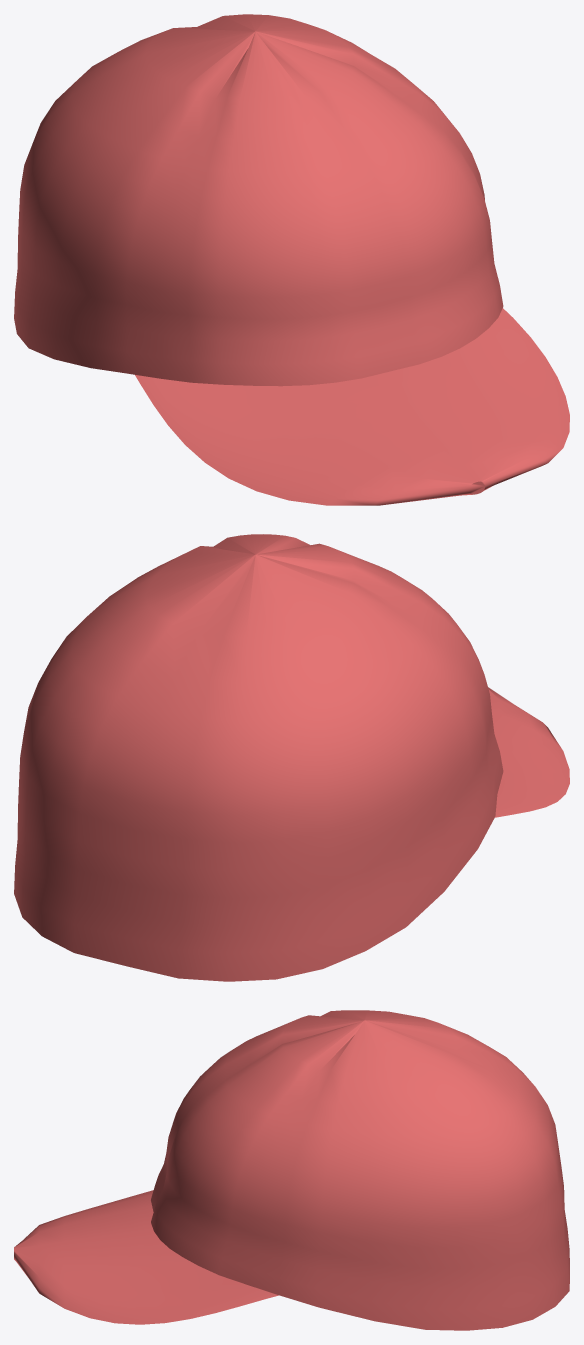
File: Char_Cap.fbx
3 renders of one model, top to bottom at view 1: azimuth 30°, elevation 25°; view 2: azimuth 150°, elevation 25°; view 3: azimuth 270°, elevation 25°, orthographic. The views are drawn at different scales.
Parts seen in each view (by area): view 1: Char_Cap; view 2: Char_Cap; view 3: Char_Cap.
Boxes of the visible parts, <box> form: Char_Cap: <box>14,14,569,505</box>; Char_Cap: <box>14,534,569,981</box>; Char_Cap: <box>14,1010,569,1330</box>.
Bounding box in the file's own units: 0.1862 × 0.1451 × 0.2901.
